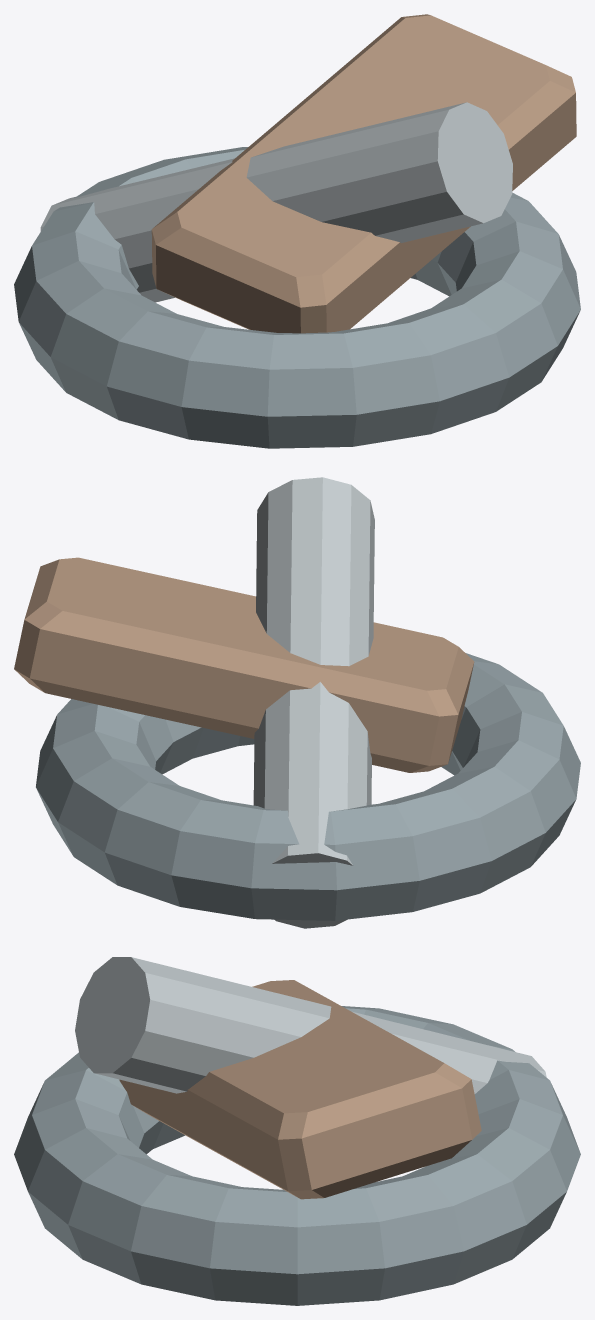
File: scrap.glb
The picture shows the model from 3 angles, top to bottom: view 1: azimuth 30°, elevation 25°; view 2: azimuth 150°, elevation 25°; view 3: azimuth 270°, elevation 25°; orthographic projection. The views are drawn at different scales.
Visible parts, largest first — view 1: scrap; view 2: scrap; view 3: scrap.
Part boxes in pixels (left/top/right/bottom): scrap: left=14, top=14, right=580, bottom=448; scrap: left=14, top=477, right=580, bottom=928; scrap: left=14, top=957, right=580, bottom=1305.
Size of the model in its own units: 0.3965 by 0.212 by 0.37.
